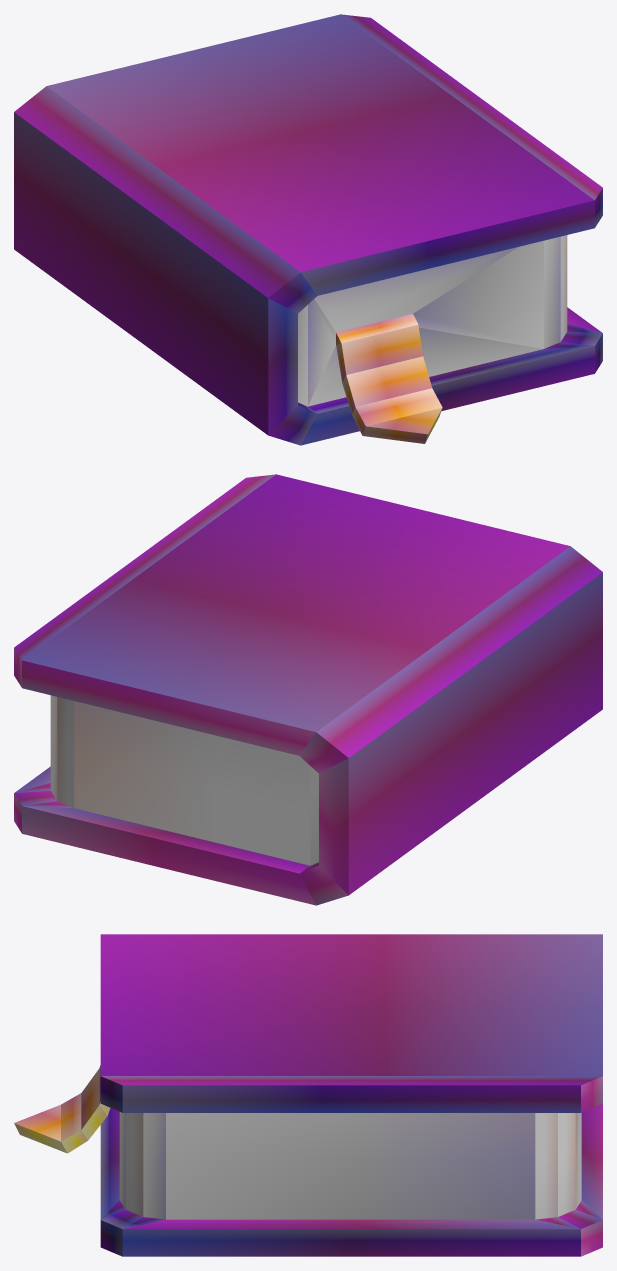
File: book01.fbx
The picture shows the model from 3 angles, top to bottom: view 1: azimuth 30°, elevation 25°; view 2: azimuth 150°, elevation 25°; view 3: azimuth 270°, elevation 25°; orthographic projection.
Parts seen in each view (by area): view 1: book01; view 2: book01; view 3: book01.
Part boxes in pixels (box(x1,y1,x2,y2)): book01: box(14, 14, 602, 445); book01: box(14, 474, 602, 905); book01: box(14, 934, 602, 1256).
Size of the model in its own units: 70.16 by 33.61 by 105.
